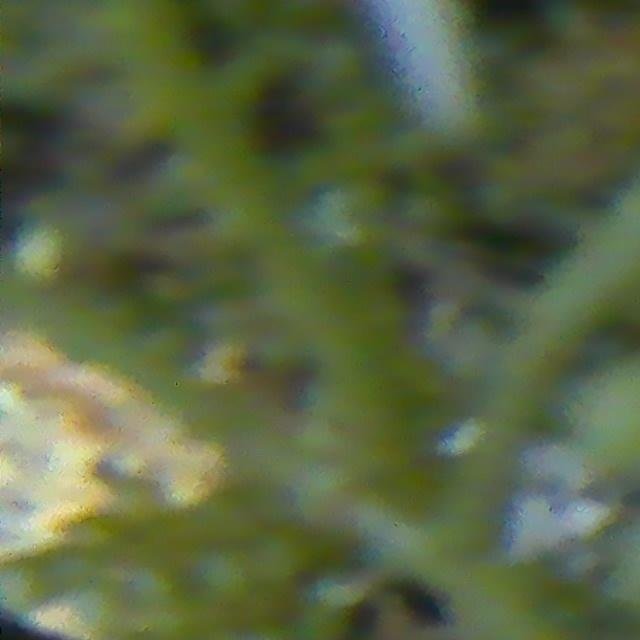SeaGrape: (195, 544, 256, 607)
